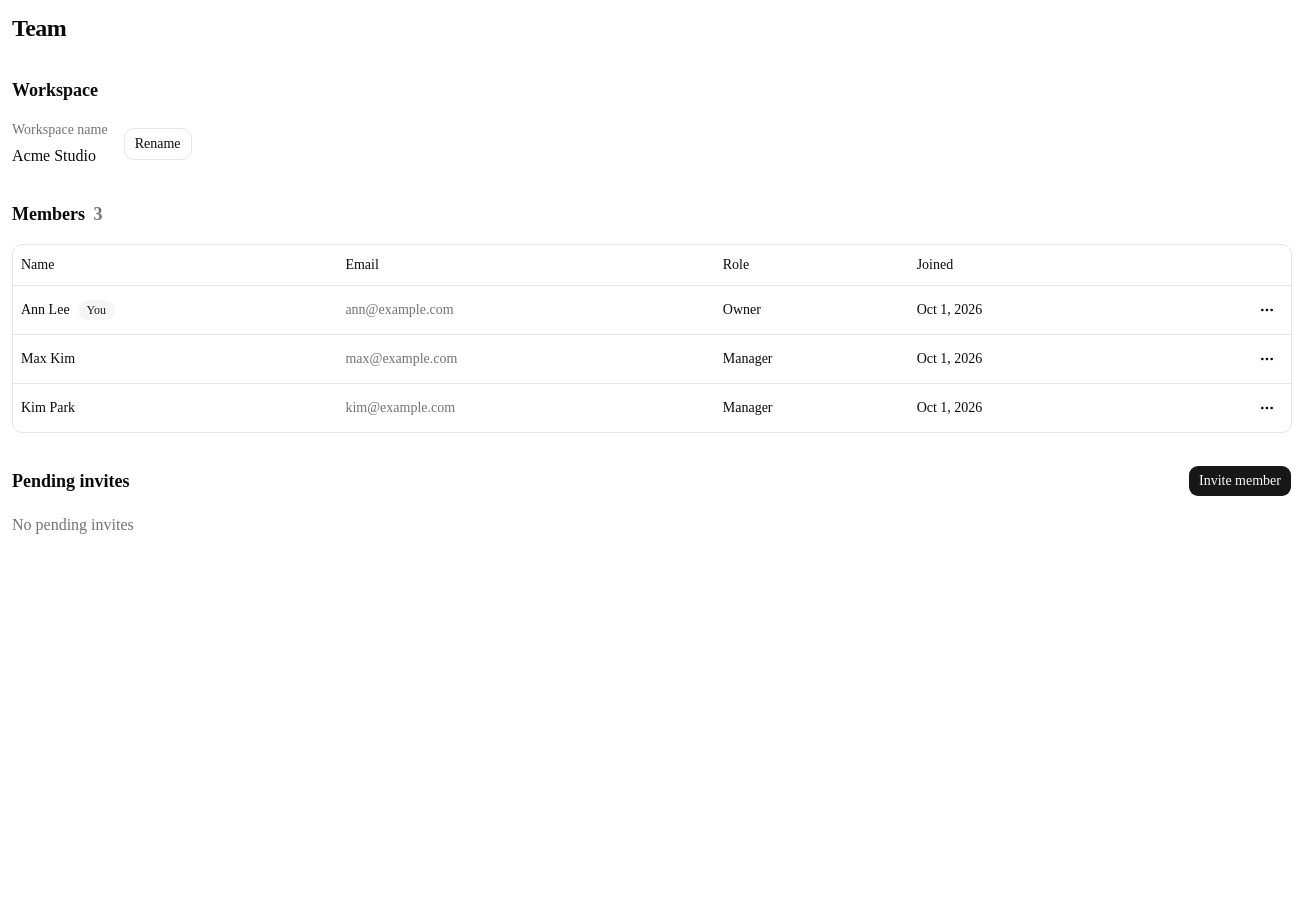
TeamView › roles › should promote without a confirmation and say so when Make owner is chosen
Click the button named "Actions for Max Kim" at (1267, 358), box [1251,342,1283,374]
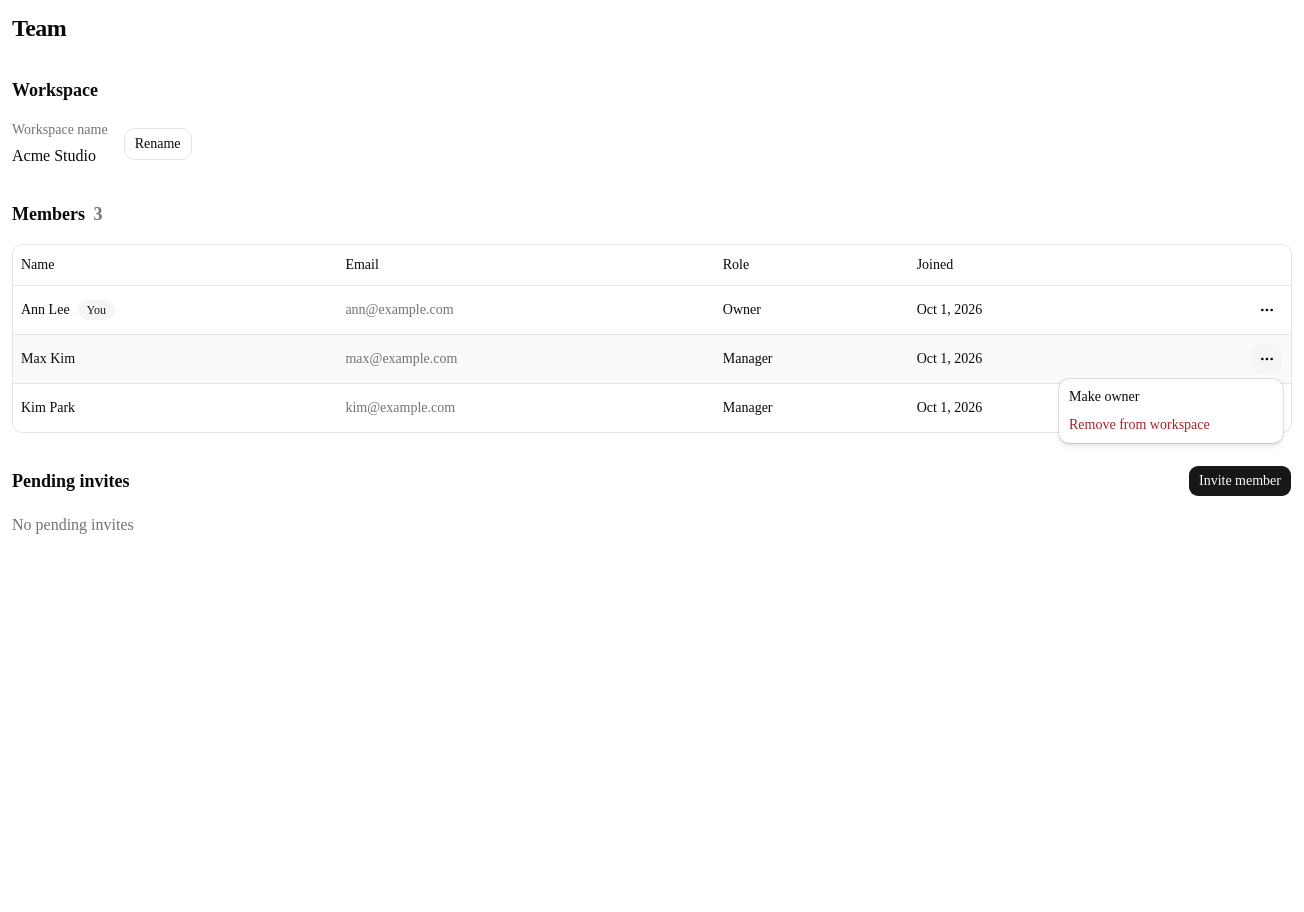
Click the menu item "Make owner" at (1104, 396), box [1069,389,1139,404]
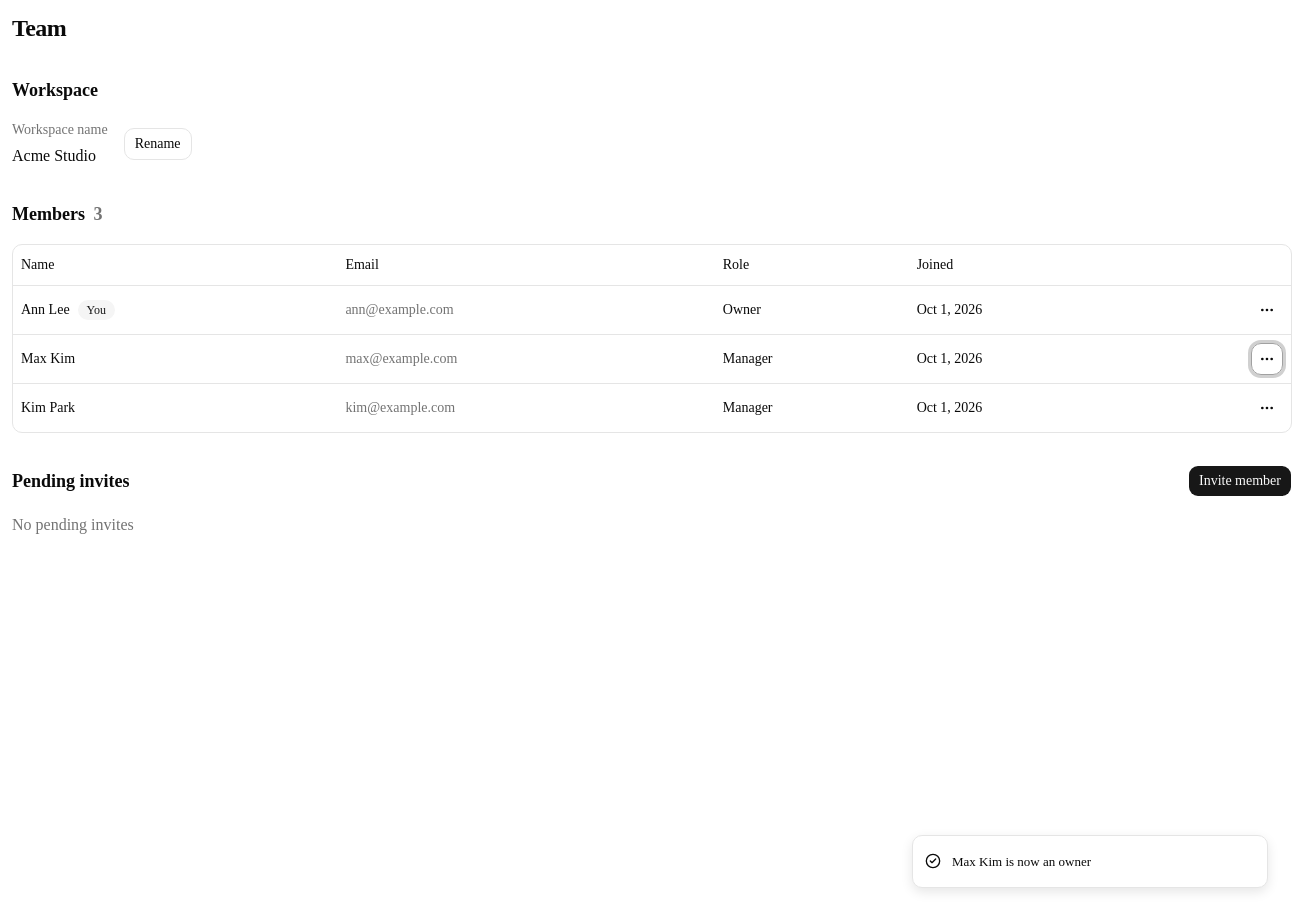
Expected: the text "Max Kim is now an owner" is shown, [952,852,1091,871]
